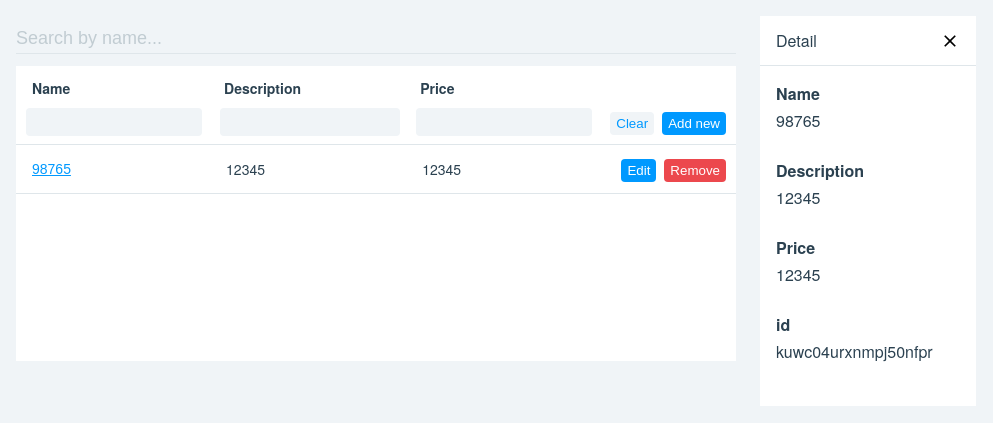
Test: Closes detail panel after click close
Finds & click close button
Click the button named "close".
click(950, 40)  # box left=940, top=30, right=960, bottom=50
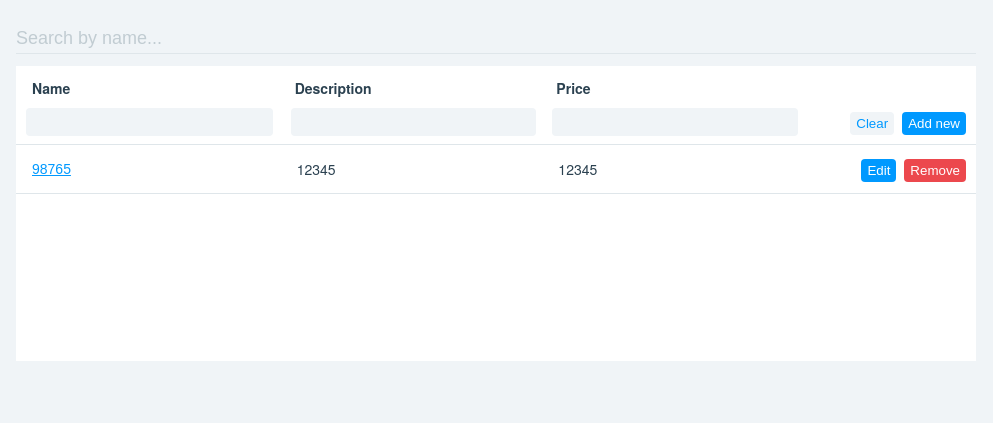
Expected: the element with test id "Items_Detail" is gone
